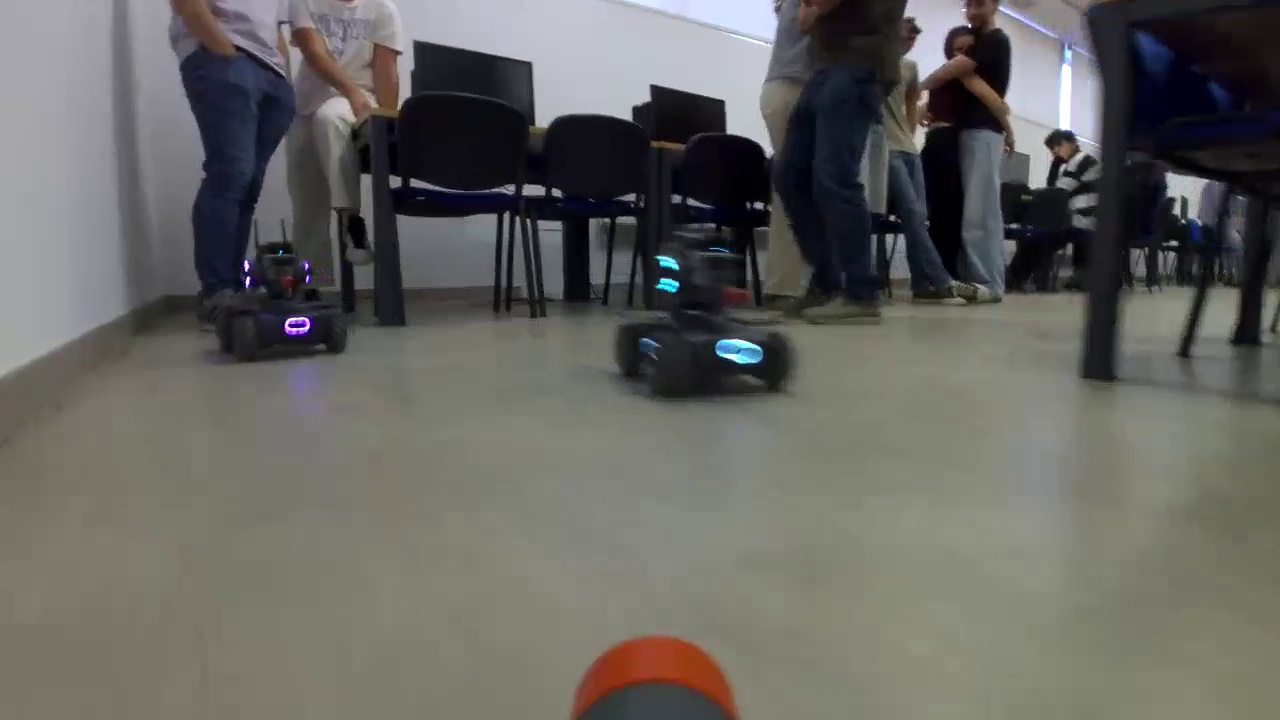robot: (618, 250, 800, 400), (220, 242, 348, 360)
